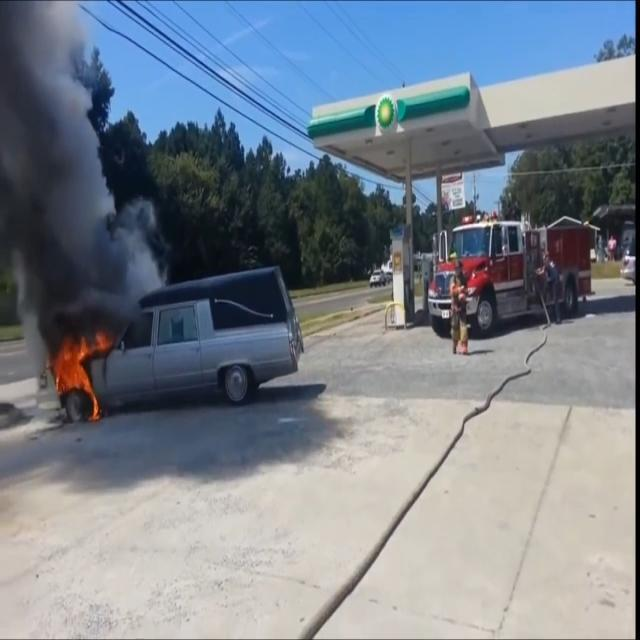fire: (46, 310, 116, 426)
